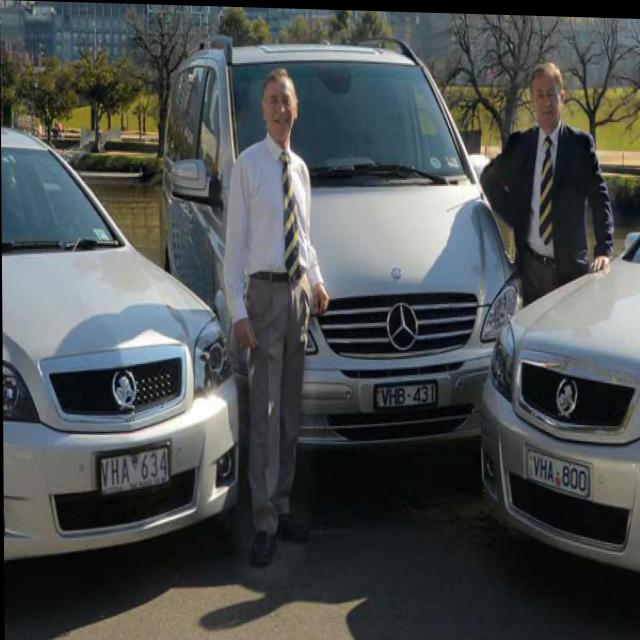licence: (371, 377, 435, 407)
